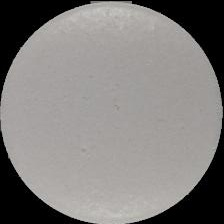68151-3005: (0, 0, 224, 224)
